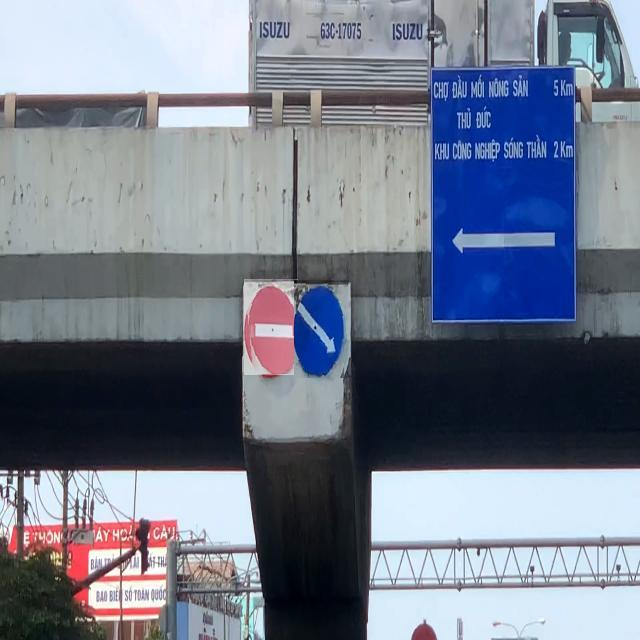P-102: (244, 280, 298, 376)
R-302a: (294, 280, 348, 378)
